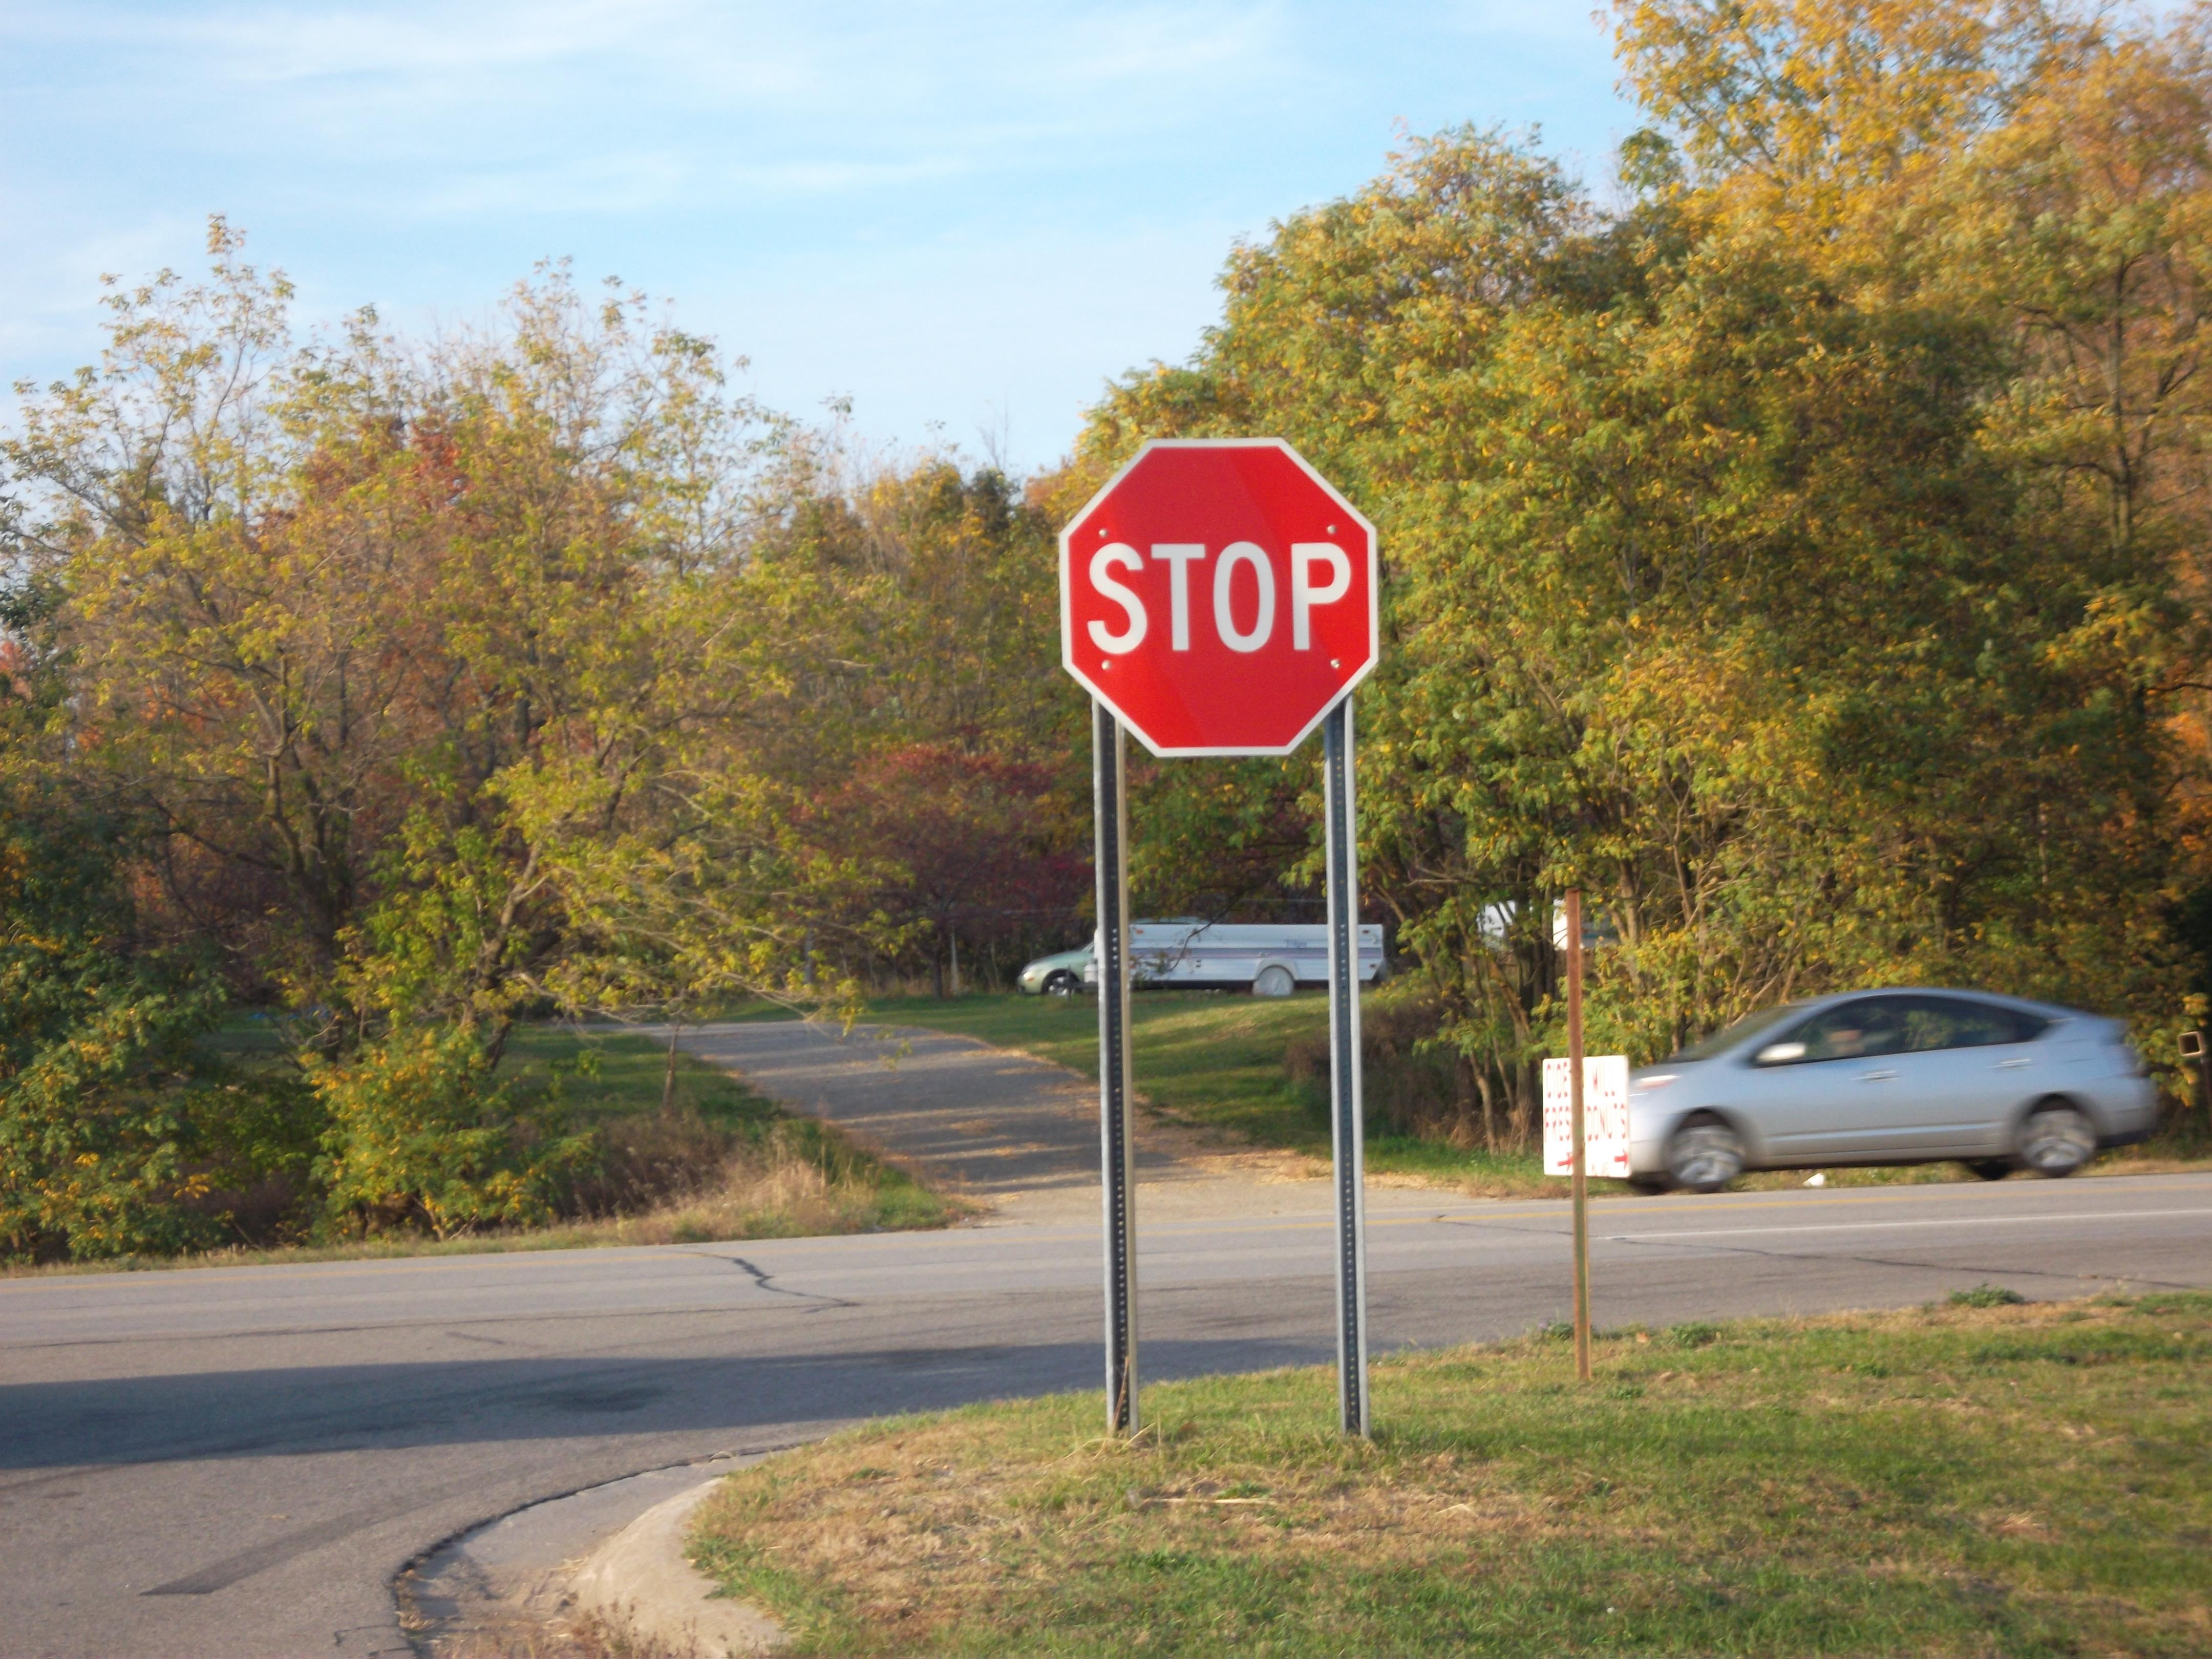stop: (1045, 420, 1390, 775)
